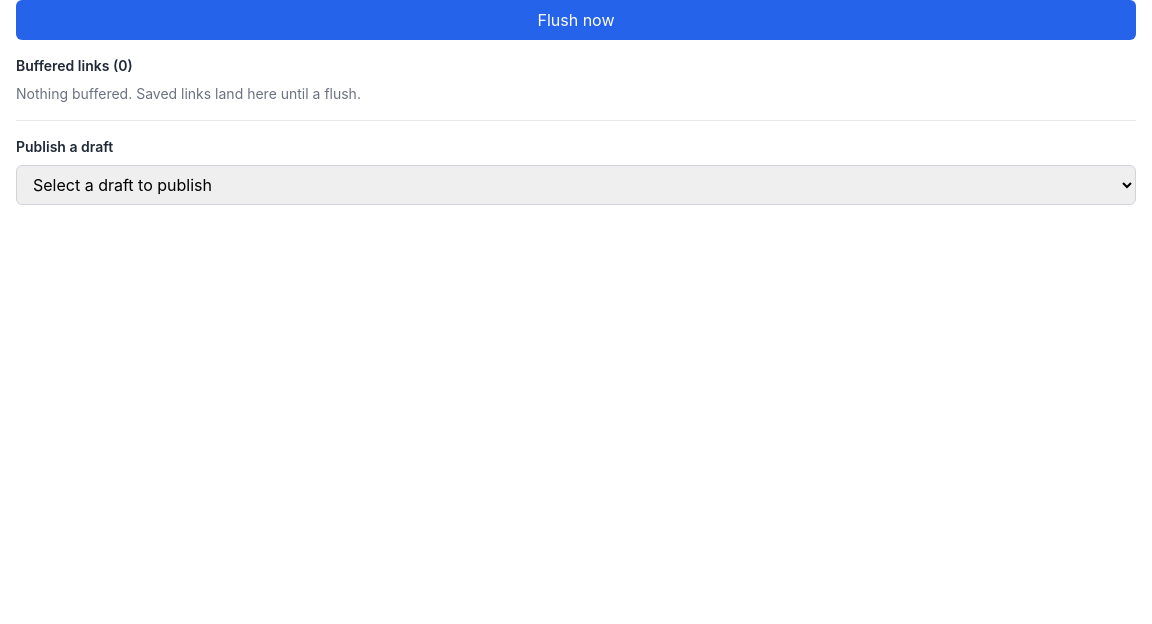
Queue publish gate › does not name a destination file the server may not create
The image size is (1152, 624).
Step 1. Select "Summer 2026 Tech Links — Curated Insights" in the 2nd dropdown → (576, 185), box [16,165,1136,205]
(page scrolled)
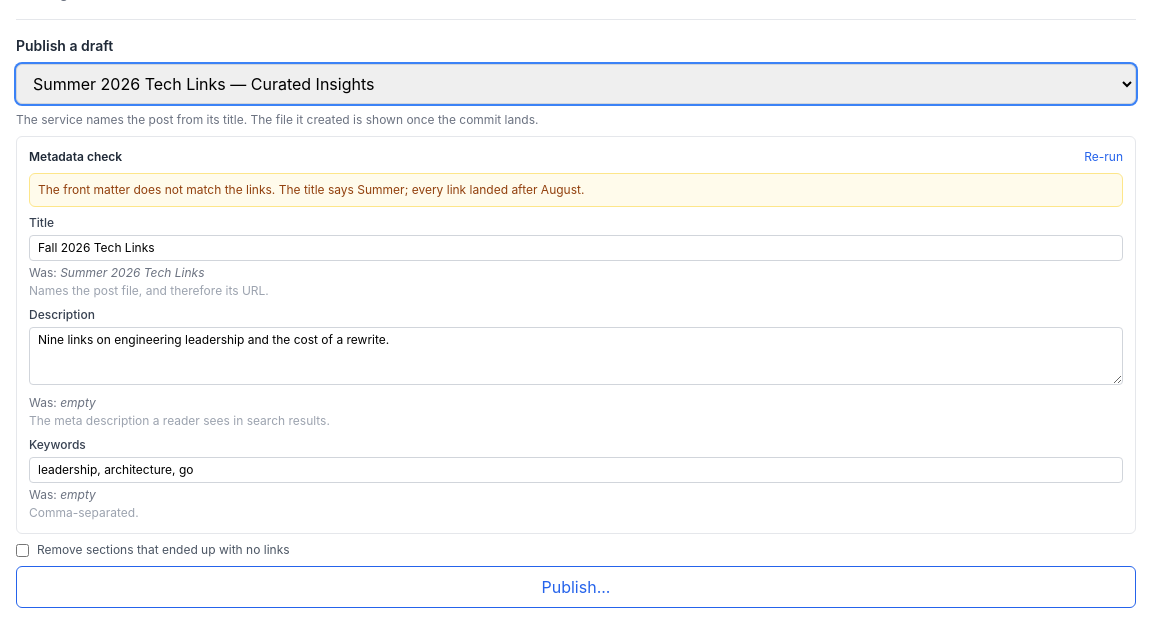
Step 2. Click the button "Publish..." → (576, 587), box [16,566,1136,608]
(page scrolled)
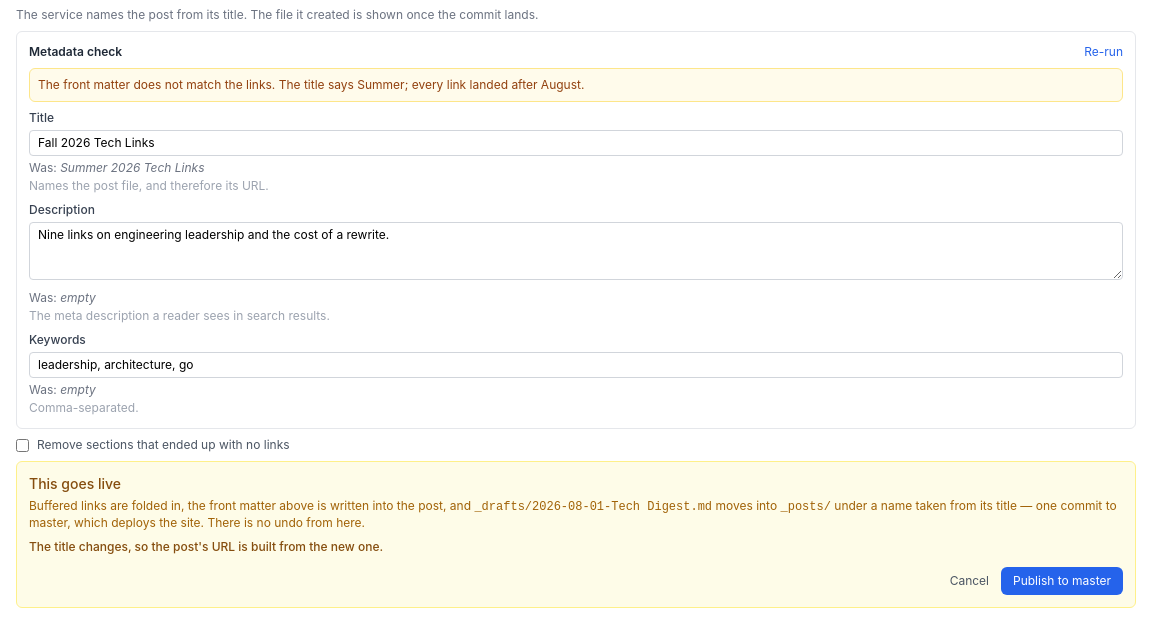
Expected: the text "There is no undo from here" is shown, [29,498,1117,530]
